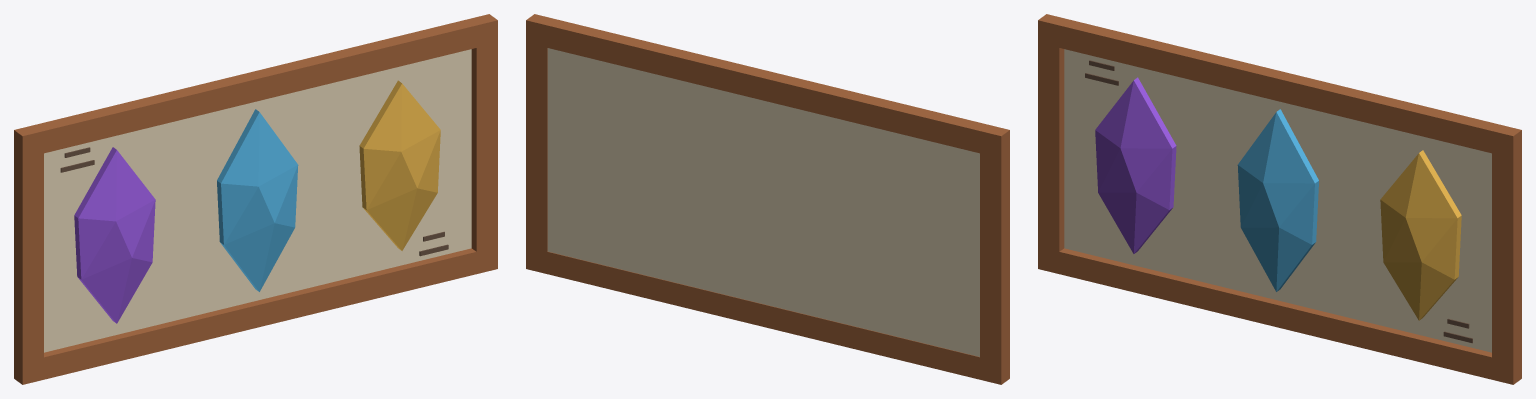
Rendered from Lodge_PosterMineral.fbx.
3 views of the same model, side by side, from view 1: azimuth 30°, elevation 25°; view 2: azimuth 150°, elevation 25°; view 3: azimuth 330°, elevation 25° (orthographic).
Visible parts, largest first — view 1: Paper, Frame, ArtCrystalBlue, ArtCrystalViolet, ArtCrystalAmber, Ink; view 2: Paper, Frame; view 3: Paper, Frame, ArtCrystalBlue, ArtCrystalViolet, ArtCrystalAmber, Ink.
Boxes of the visible parts, x1=… form: Paper: x1=44, y1=49, x2=471, y2=352; Frame: x1=14, y1=14, x2=497, y2=384; ArtCrystalBlue: x1=217, y1=109, x2=298, y2=291; ArtCrystalViolet: x1=74, y1=147, x2=155, y2=323; ArtCrystalAmber: x1=359, y1=80, x2=440, y2=250; Ink: x1=60, y1=147, x2=448, y2=256; Paper: x1=547, y1=48, x2=979, y2=356; Frame: x1=526, y1=14, x2=1009, y2=384; Paper: x1=1064, y1=49, x2=1491, y2=352; Frame: x1=1038, y1=14, x2=1521, y2=384; ArtCrystalBlue: x1=1237, y1=109, x2=1318, y2=291; ArtCrystalViolet: x1=1095, y1=77, x2=1176, y2=253; ArtCrystalAmber: x1=1380, y1=150, x2=1461, y2=320; Ink: x1=1085, y1=60, x2=1472, y2=343.
Size of the model in its own units: 8 by 4 by 0.41.
